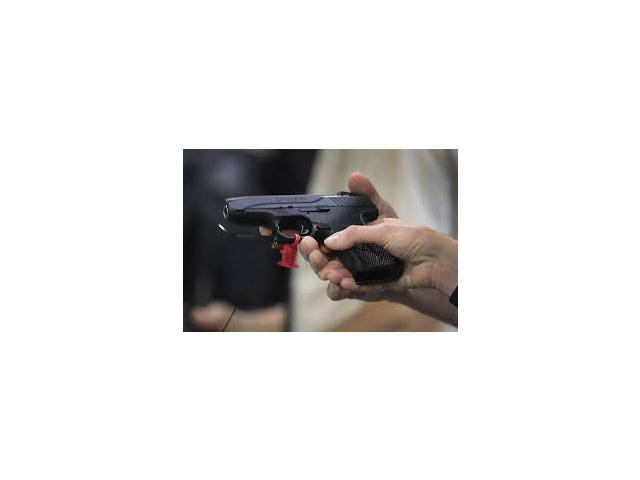pistol: (219, 189, 404, 289)
